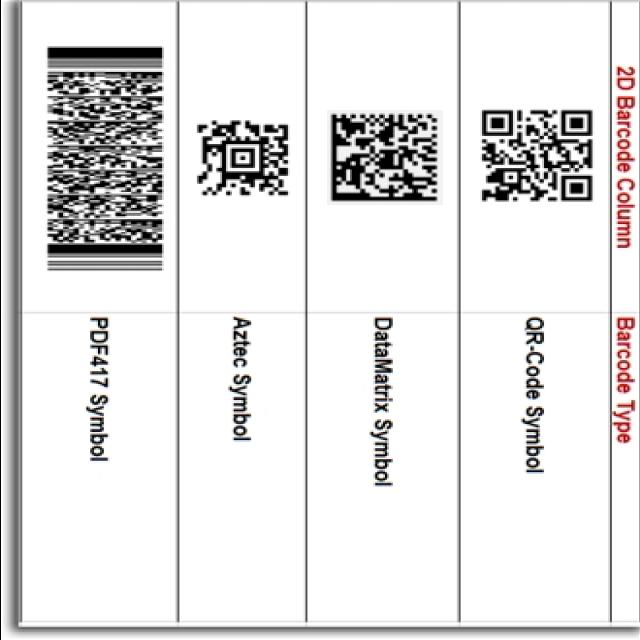DataMatrix: (326, 110, 442, 205)
